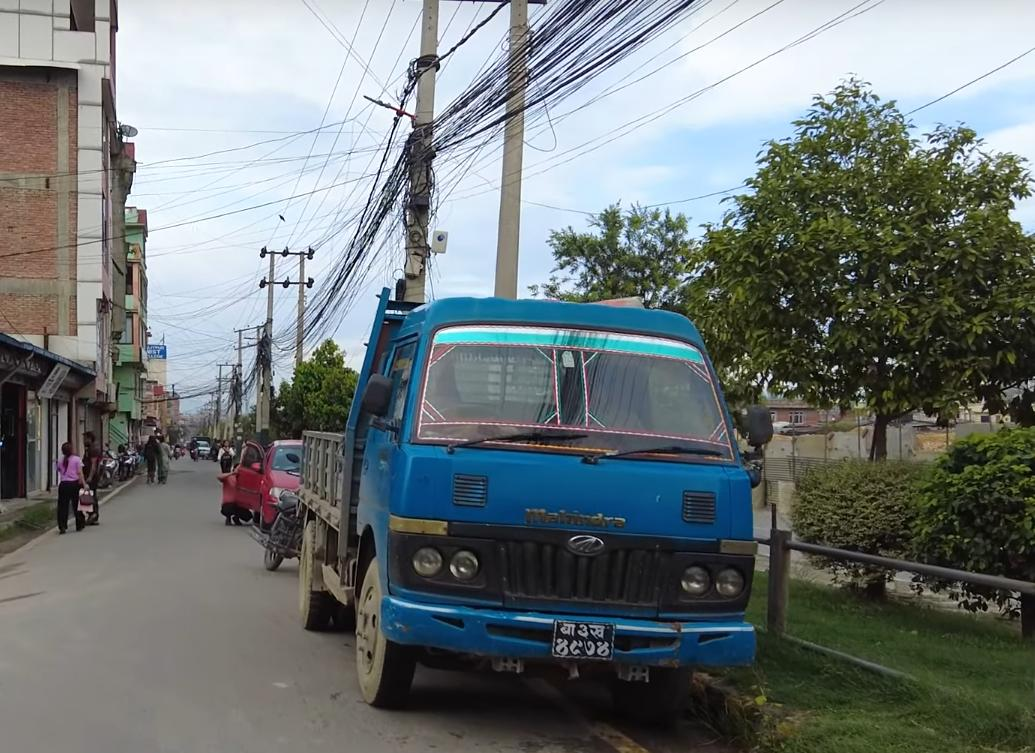car: (219, 432, 315, 546)
mini_truck: (280, 279, 776, 726)
